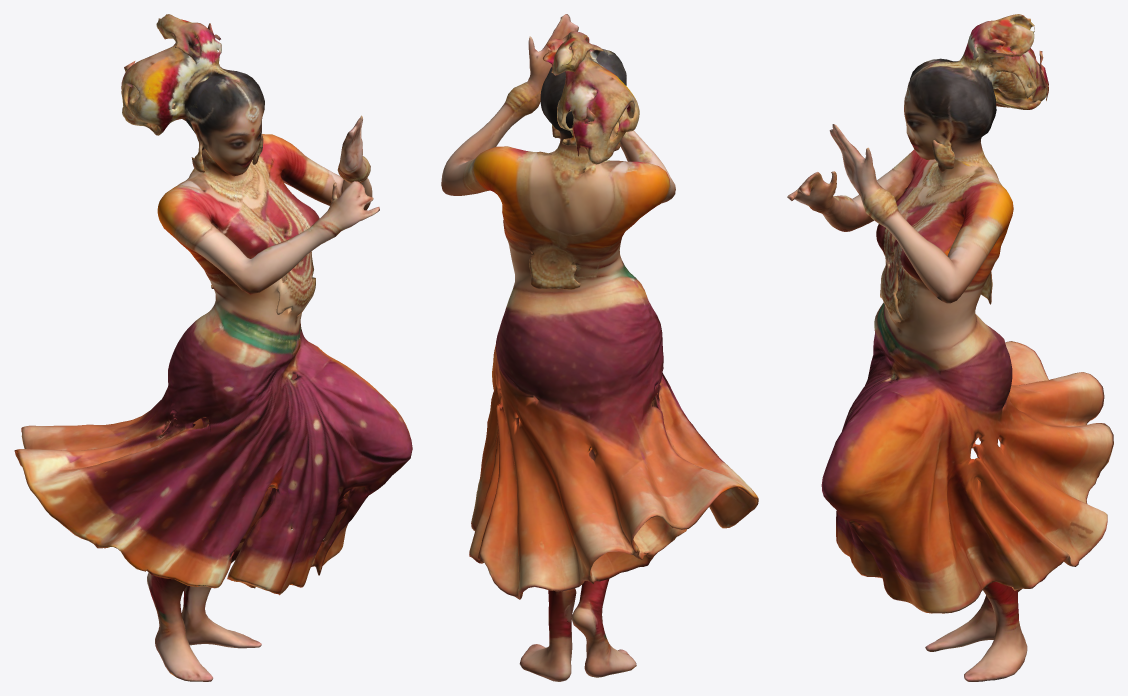
3 renders of one model, left to right at view 1: azimuth 30°, elevation 25°; view 2: azimuth 150°, elevation 25°; view 3: azimuth 270°, elevation 25°, orthographic.
Visible parts, largest first — view 1: Mesh_0; view 2: Mesh_0; view 3: Mesh_0.
Boxes of the visible parts, x1,y1,x2,y2 form: Mesh_0: (14, 14, 412, 681); Mesh_0: (441, 14, 758, 681); Mesh_0: (787, 14, 1113, 681).
Bounding box in the file's own units: 1.06 × 1.99 × 0.9212.
1 material, 1 textured.
